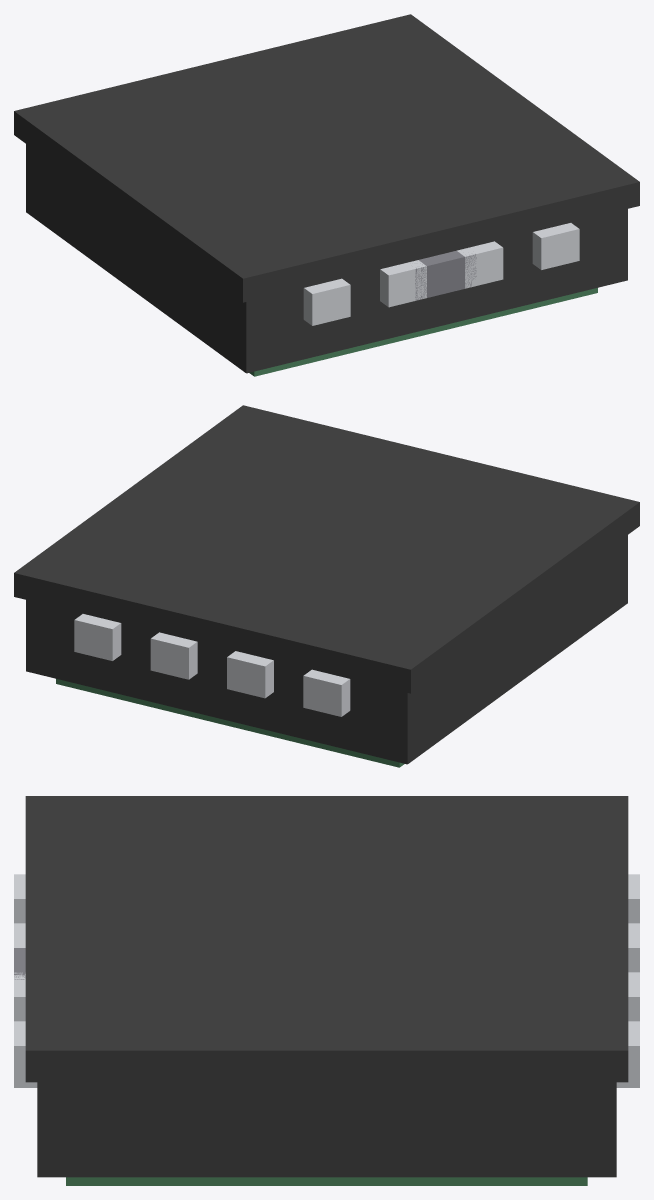
The model's file is cpu.gltf.
3 views of the same model, one above another, from view 1: azimuth 30°, elevation 25°; view 2: azimuth 150°, elevation 25°; view 3: azimuth 270°, elevation 25° (orthographic). The views are drawn at different scales.
Parts seen in each view (by area): view 1: cpu; view 2: cpu; view 3: cpu.
Part boxes in pixels (x1=…): cpu: x1=14, y1=14, x2=639, y2=376; cpu: x1=14, y1=405, x2=639, y2=767; cpu: x1=14, y1=796, x2=639, y2=1185.
Size of the model in its own units: 0.052 by 0.0145 by 0.054.
